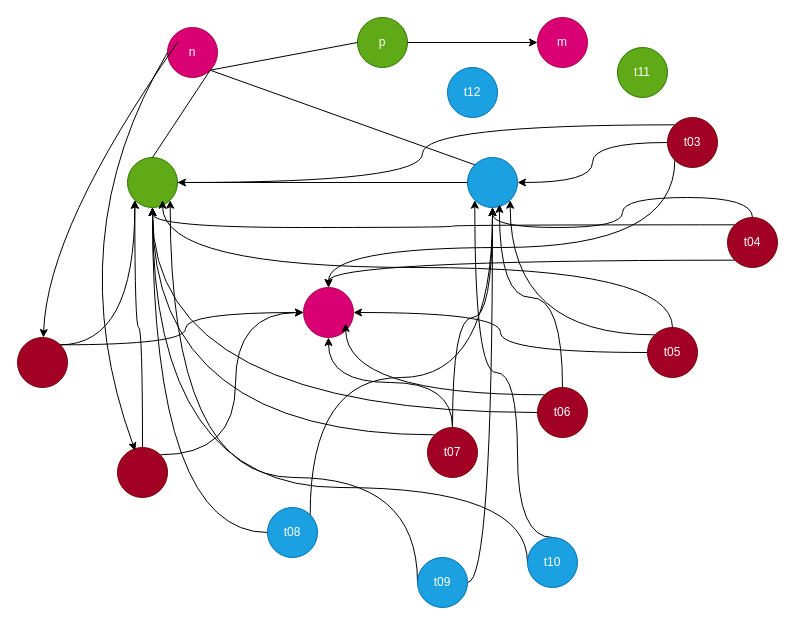
Image size: 795x625. Some labels were removed from this diagram. Here are the shapes that lost their labels. From the top down, the centre of each, then its label:
point 152,182: d1
point 492,182: d3
point 328,312: d2
point 42,362: t01
point 142,472: t02
